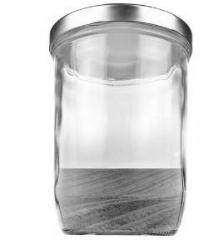glass: (50, 3, 194, 237)
